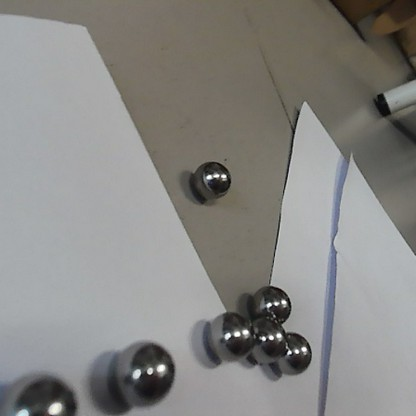ironball: (106, 339, 176, 409), (1, 366, 80, 414), (205, 310, 252, 364), (247, 318, 289, 364), (279, 324, 311, 381), (192, 158, 232, 200), (247, 283, 290, 320)
